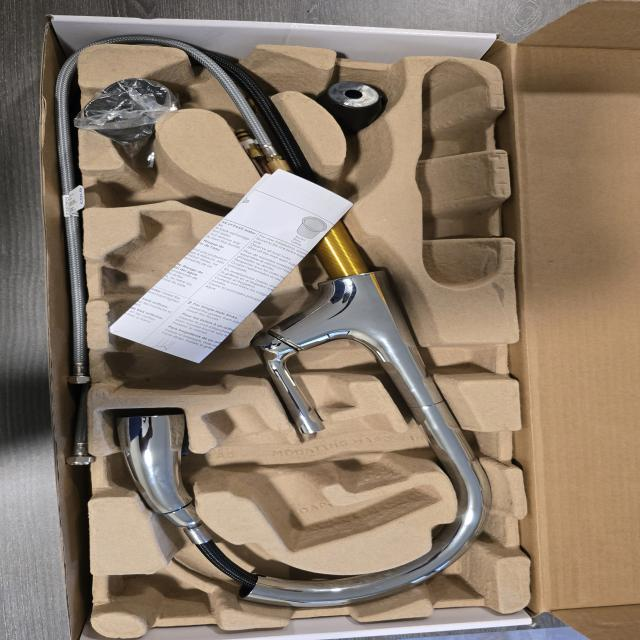1o: (114, 46, 492, 608)
2m: (202, 404, 444, 552)
3m: (104, 210, 230, 394)
4m: (417, 61, 502, 289)
5: (316, 80, 386, 131)
6m: (90, 148, 226, 212)
7: (73, 76, 177, 167)
8: (106, 167, 355, 365)
